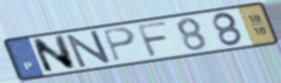8: (212, 11, 245, 48), (176, 17, 209, 52)
F: (135, 20, 172, 59)
N: (29, 33, 79, 75), (64, 29, 114, 69)
P: (100, 26, 138, 64)
